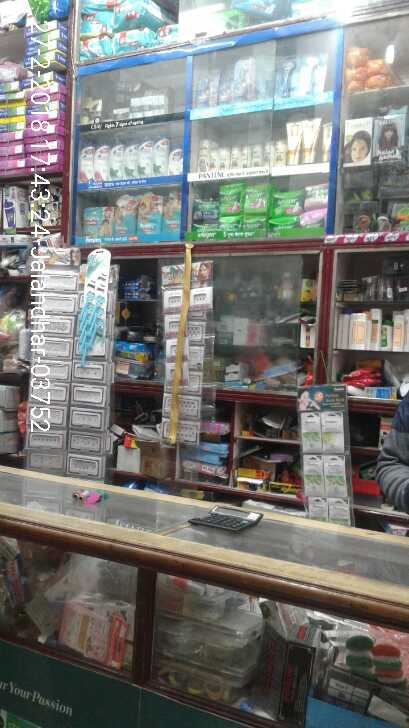venus: (76, 249, 108, 369), (232, 55, 257, 98), (274, 55, 301, 94), (301, 53, 325, 94), (196, 68, 219, 104)
